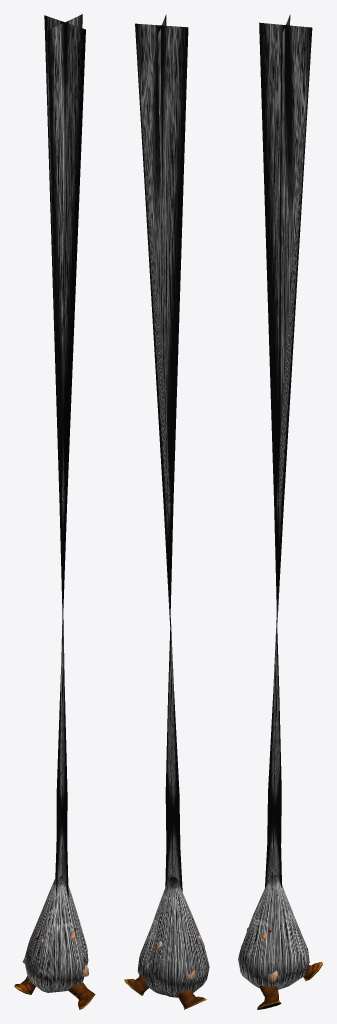
File: CINE04_RESCUEDDWARVESFLEE_GROUP3 _SHOT00_COCOON.fbx
The picture shows the model from 3 angles, left to right: view 1: azimuth 30°, elevation 25°; view 2: azimuth 150°, elevation 25°; view 3: azimuth 330°, elevation 25°; orthographic projection.
Parts seen in each view (by area): view 1: CINE04_RESCUEDDWARVESFLEE_GROUP3 _SHOT00_COCOON; view 2: CINE04_RESCUEDDWARVESFLEE_GROUP3 _SHOT00_COCOON; view 3: CINE04_RESCUEDDWARVESFLEE_GROUP3 _SHOT00_COCOON.
Boxes of the visible parts, x1,y1,x2,y2 form: CINE04_RESCUEDDWARVESFLEE_GROUP3 _SHOT00_COCOON: [14, 14, 95, 1009]; CINE04_RESCUEDDWARVESFLEE_GROUP3 _SHOT00_COCOON: [124, 14, 209, 1009]; CINE04_RESCUEDDWARVESFLEE_GROUP3 _SHOT00_COCOON: [238, 14, 322, 1009].
Size of the model in its own units: 10473 by 138919 by 10468.
Materials: 5 (5 with a texture image).
